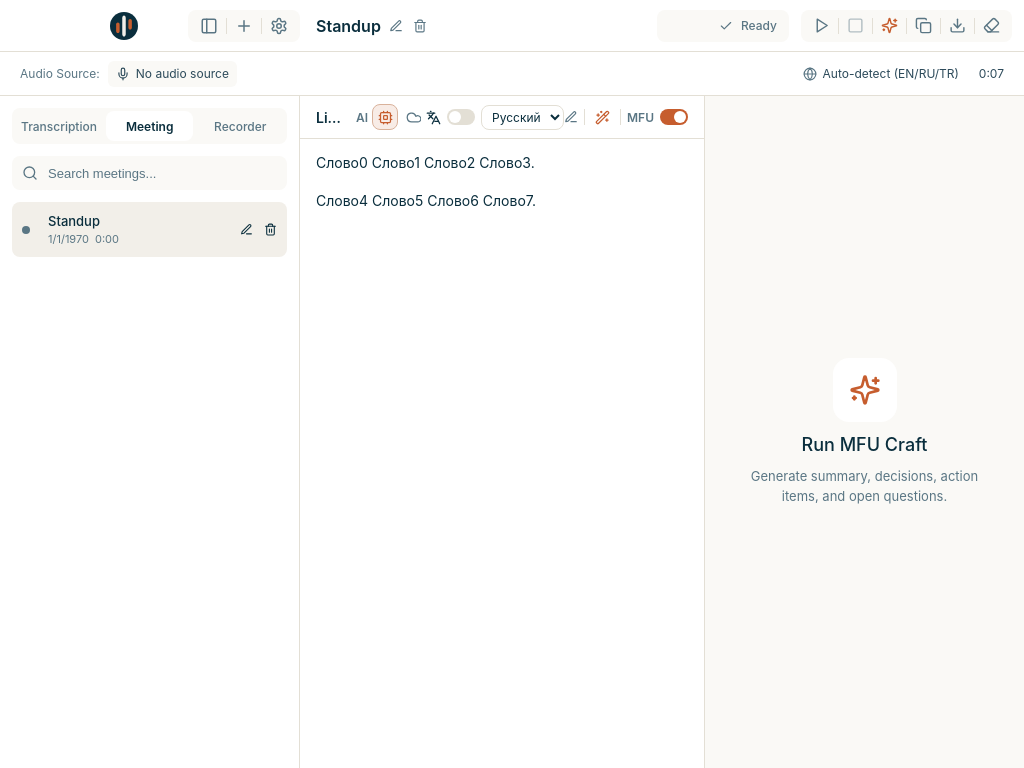
it: StreamingView — Live Translation split grid › switching off restores the single-column rendering unchanged, and re-enables the select
Step 1. Click the text "Standup" → (74, 221), box [48,213,100,229]
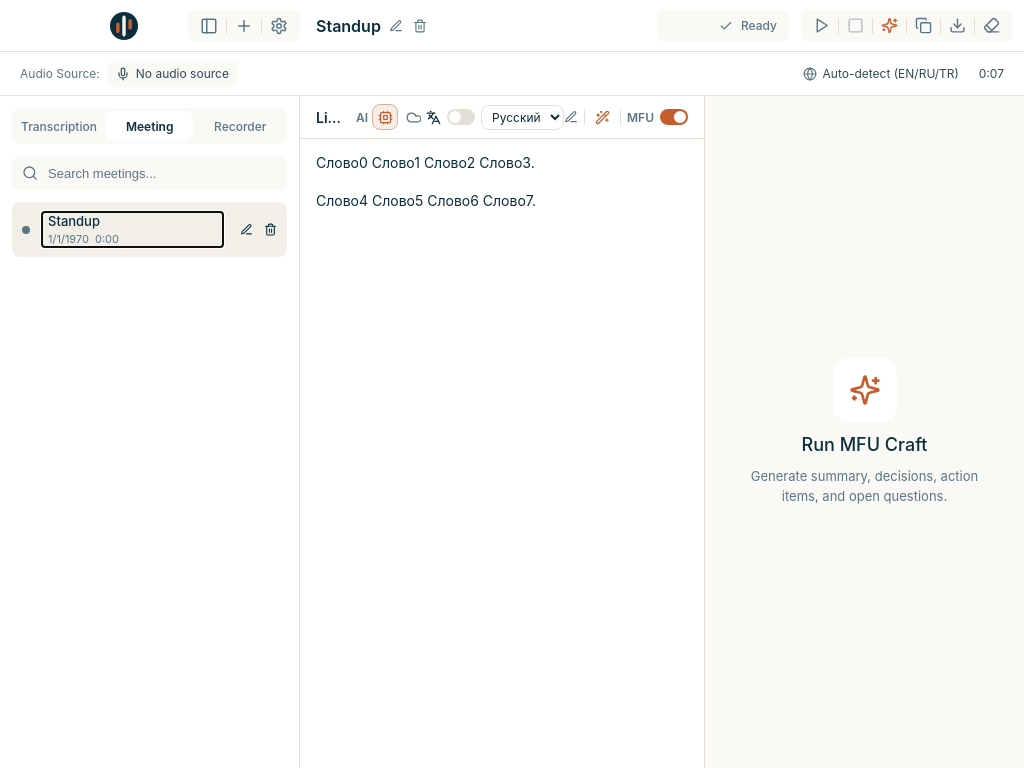
Step 2. Click the switch named "Live Translation" → (461, 117), box [447,109,475,125]
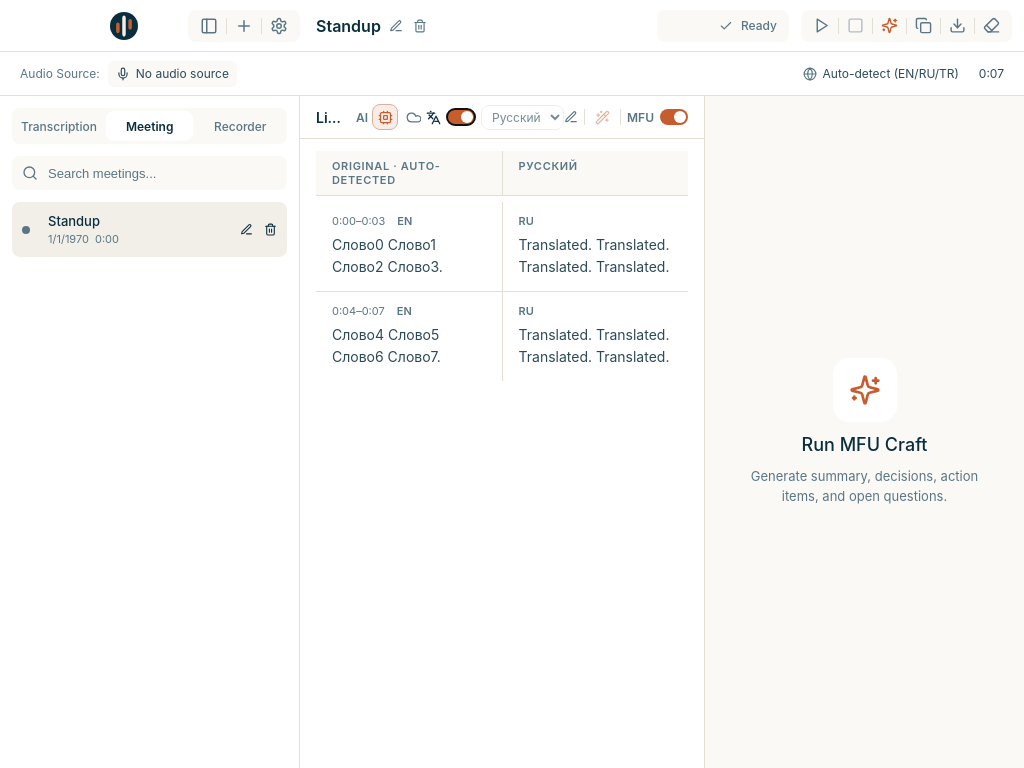
Step 3. Click the switch named "Live Translation" → (461, 117), box [447,109,475,125]
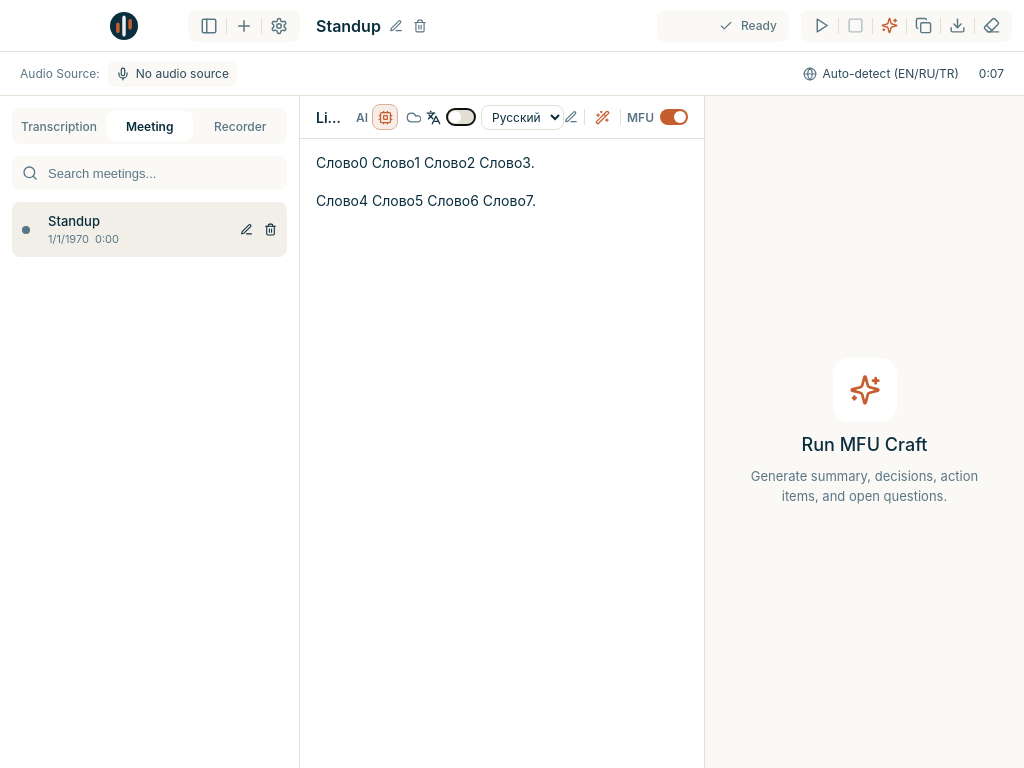
Expected: the number of elements with class "streaming-paragraph" is 2, [316,154,535,171]; [316,192,536,209]
Expected: the dropdown named "Live Translation target language" is enabled, [481,104,564,130]
